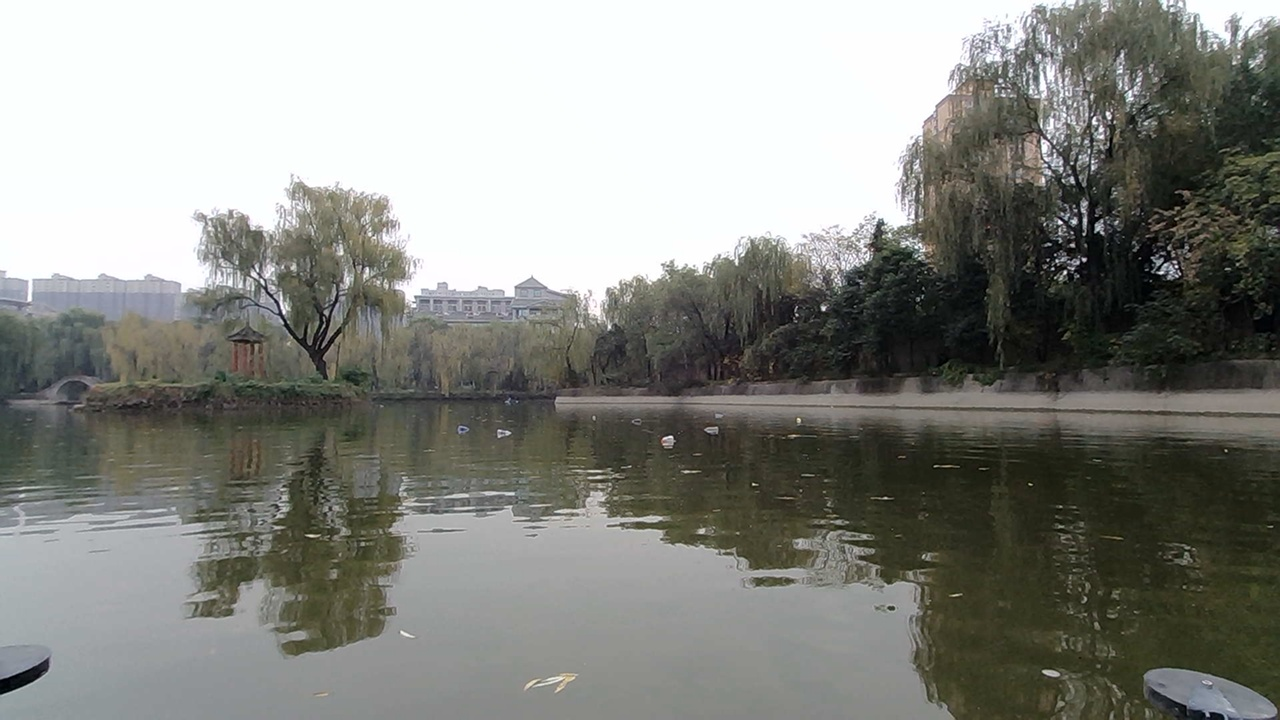bottle: (453, 407, 489, 445), (780, 405, 812, 435), (626, 404, 657, 429), (492, 416, 519, 443), (583, 401, 609, 423), (657, 431, 684, 451), (705, 415, 731, 433)
